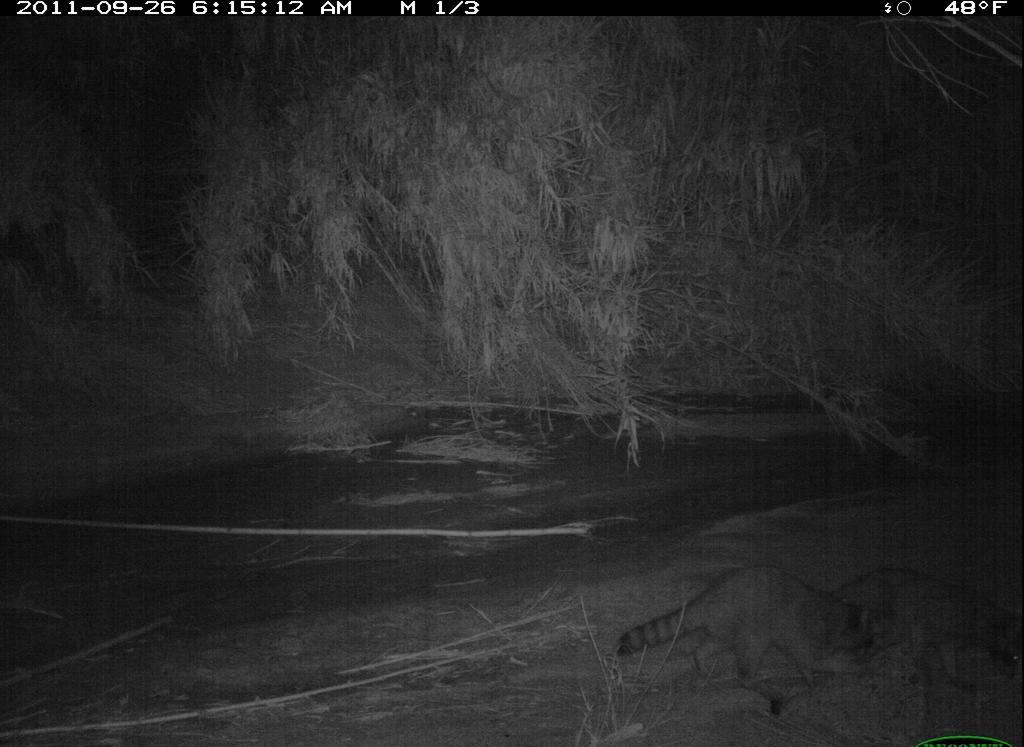raccoon: (611, 556, 884, 698)
